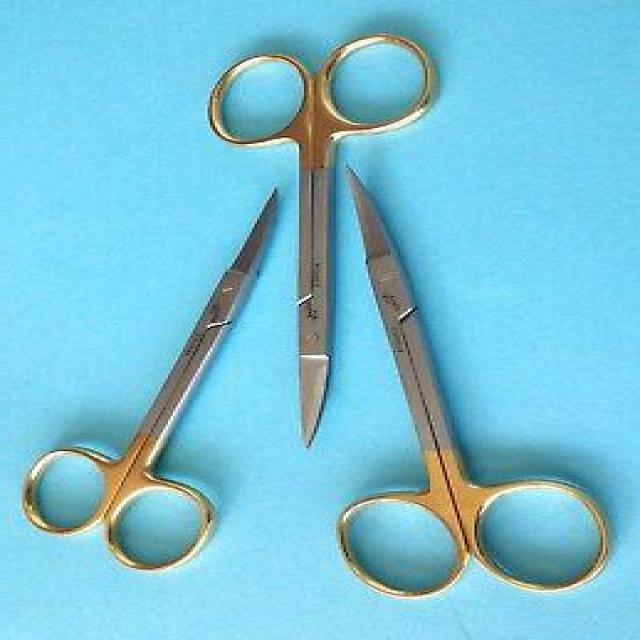Iris: (331, 158, 620, 598), (17, 184, 284, 576), (198, 29, 442, 452)
